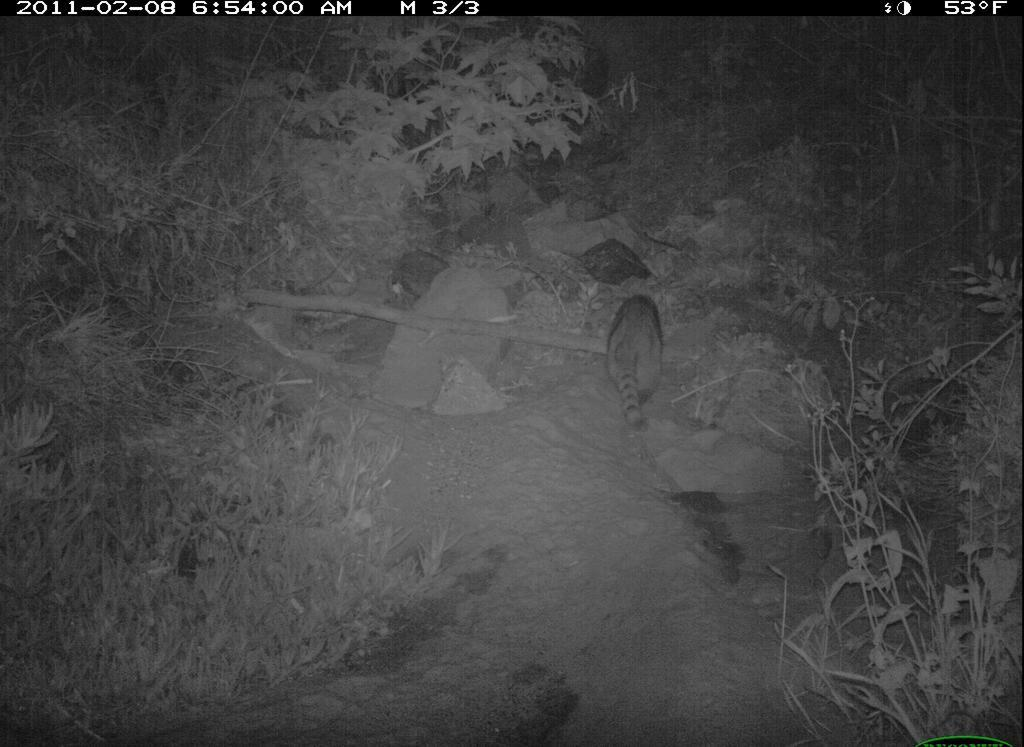raccoon: (591, 294, 685, 437)
